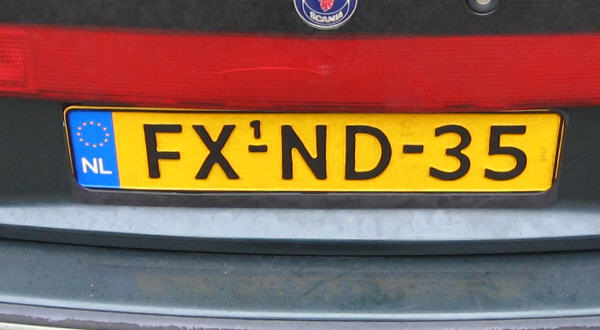license_plate: (64, 104, 565, 195)
